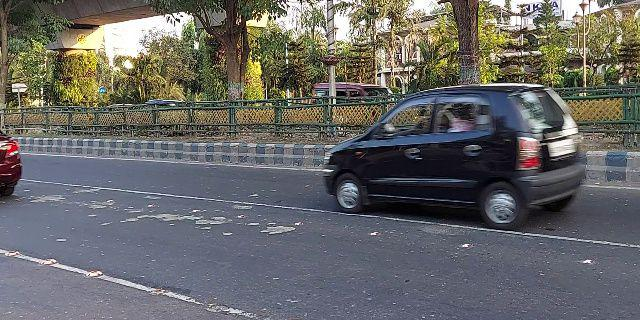Car: (320, 78, 592, 232), (1, 128, 23, 197)
